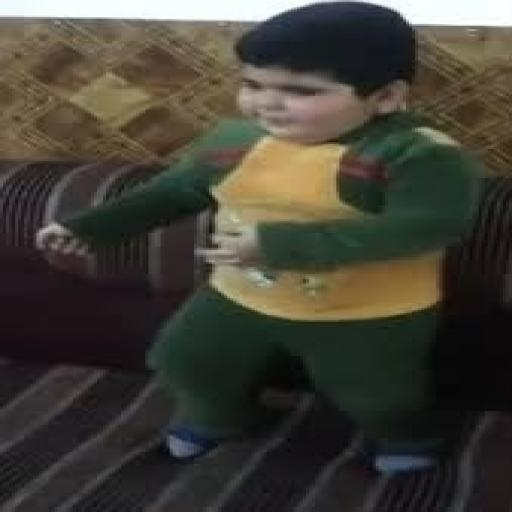dancing: (30, 0, 491, 478)
